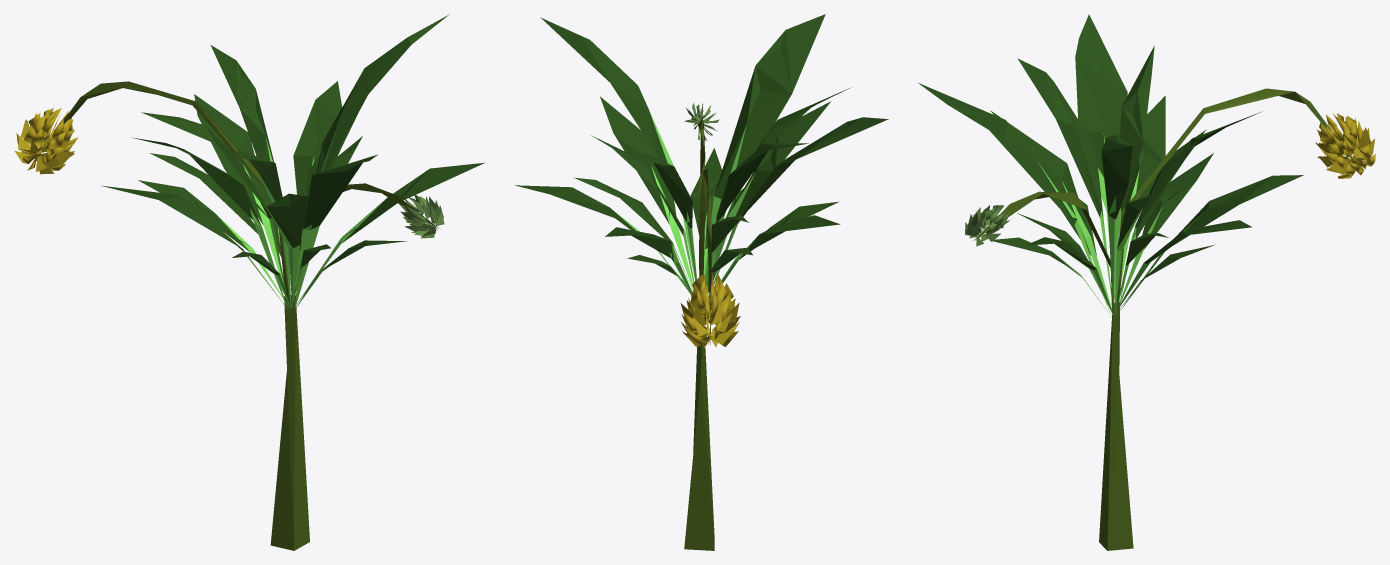
File: SM_BananaTree_002_LOD6.fbx
3 renders of one model, left to right at view 1: azimuth 30°, elevation 25°; view 2: azimuth 150°, elevation 25°; view 3: azimuth 270°, elevation 25°, orthographic. The views are drawn at different scales.
Visible parts, largest first — view 1: BananaTree; view 2: BananaTree; view 3: BananaTree.
Part boxes in pixels (x1,y1,x2,y2): BananaTree: (14, 14, 484, 550); BananaTree: (515, 14, 888, 550); BananaTree: (918, 14, 1375, 550).
Bounding box in the file's own units: 290 × 405 × 352.
